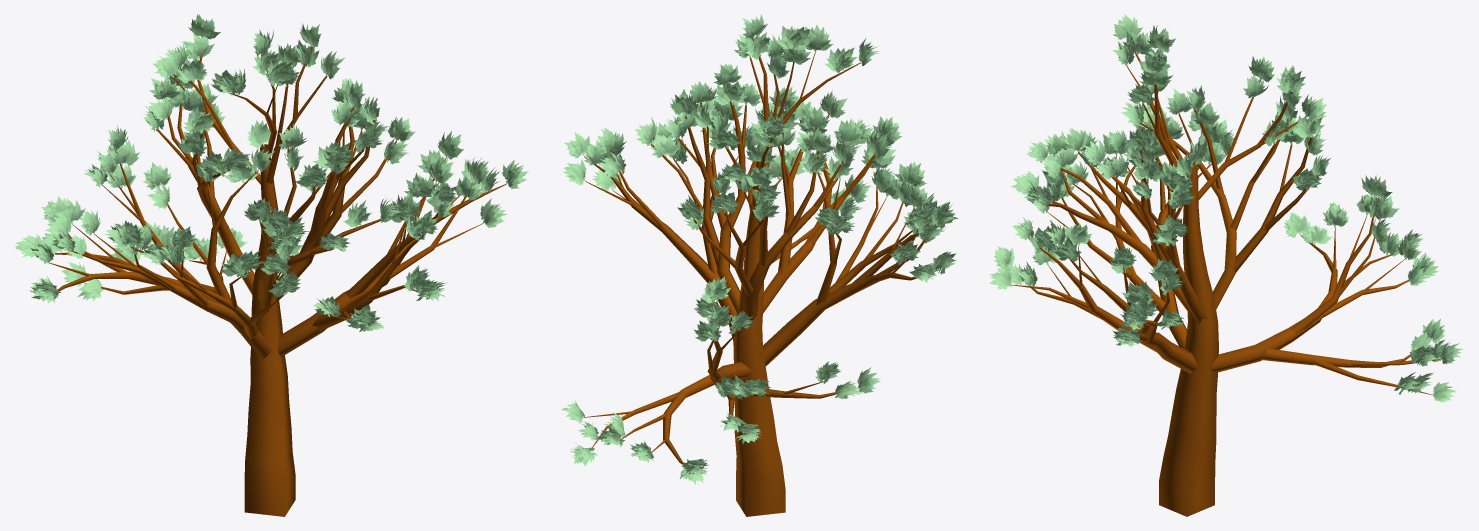
Rendered from FinalTree29.fbx.
3 renders of one model, left to right at view 1: azimuth 30°, elevation 25°; view 2: azimuth 150°, elevation 25°; view 3: azimuth 270°, elevation 25°, orthographic. The views are drawn at different scales.
Visible parts, largest first — view 1: Árbol; view 2: Árbol; view 3: Árbol.
Part boxes in pixels (x1=…): Árbol: x1=49, y1=47, x2=506, y2=516; Árbol: x1=583, y1=37, x2=939, y2=516; Árbol: x1=1011, y1=50, x2=1440, y2=516.
Bounding box in the file's own units: 631 × 670 × 619.
